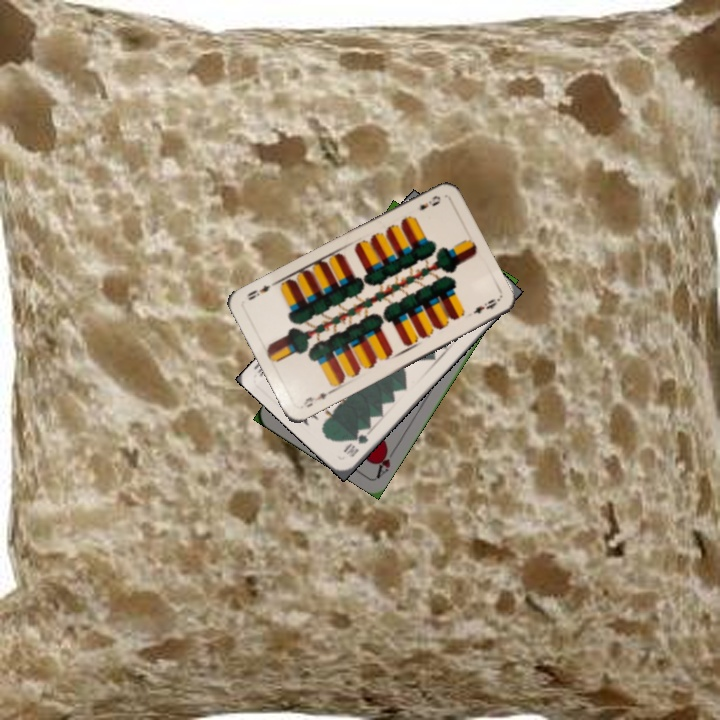E9: (299, 386, 335, 410), (416, 191, 443, 213)
G10: (340, 430, 371, 459)
HA: (372, 443, 399, 480)
